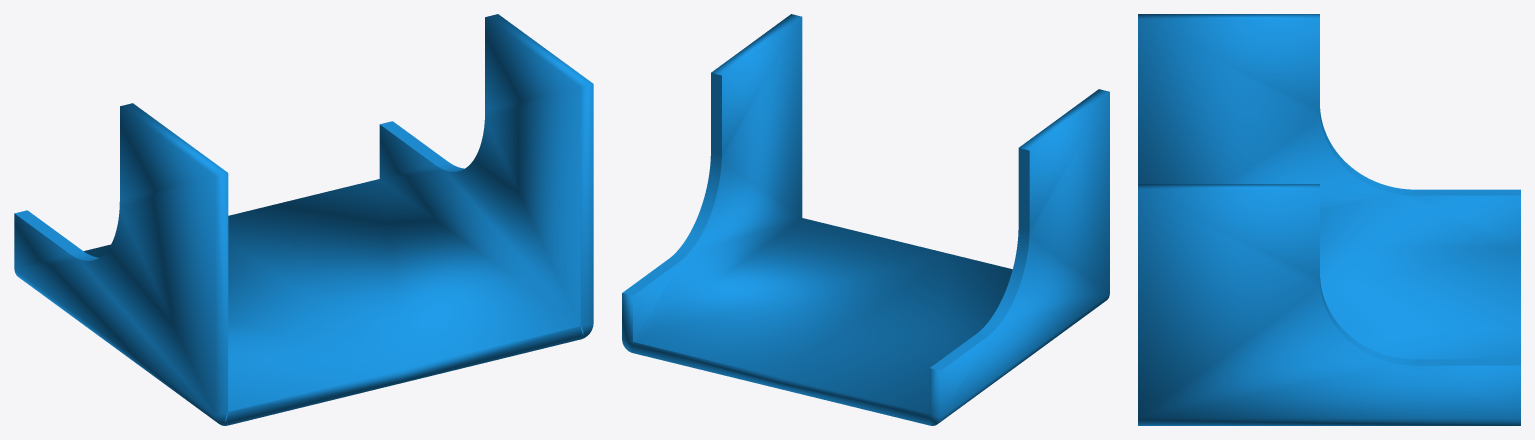
Rendered from swivel_servo_holder.dae.
The picture shows the model from 3 angles, left to right: view 1: azimuth 30°, elevation 25°; view 2: azimuth 150°, elevation 25°; view 3: azimuth 270°, elevation 25°; orthographic projection. The views are drawn at different scales.
Parts seen in each view (by area): view 1: swivel_servo_holder; view 2: swivel_servo_holder; view 3: swivel_servo_holder.
Boxes of the visible parts, <box> form: swivel_servo_holder: <box>14,14,593,425</box>; swivel_servo_holder: <box>622,14,1109,425</box>; swivel_servo_holder: <box>1138,14,1520,425</box>.
Bounding box in the file's own units: 43.5 × 40 × 27.75.
